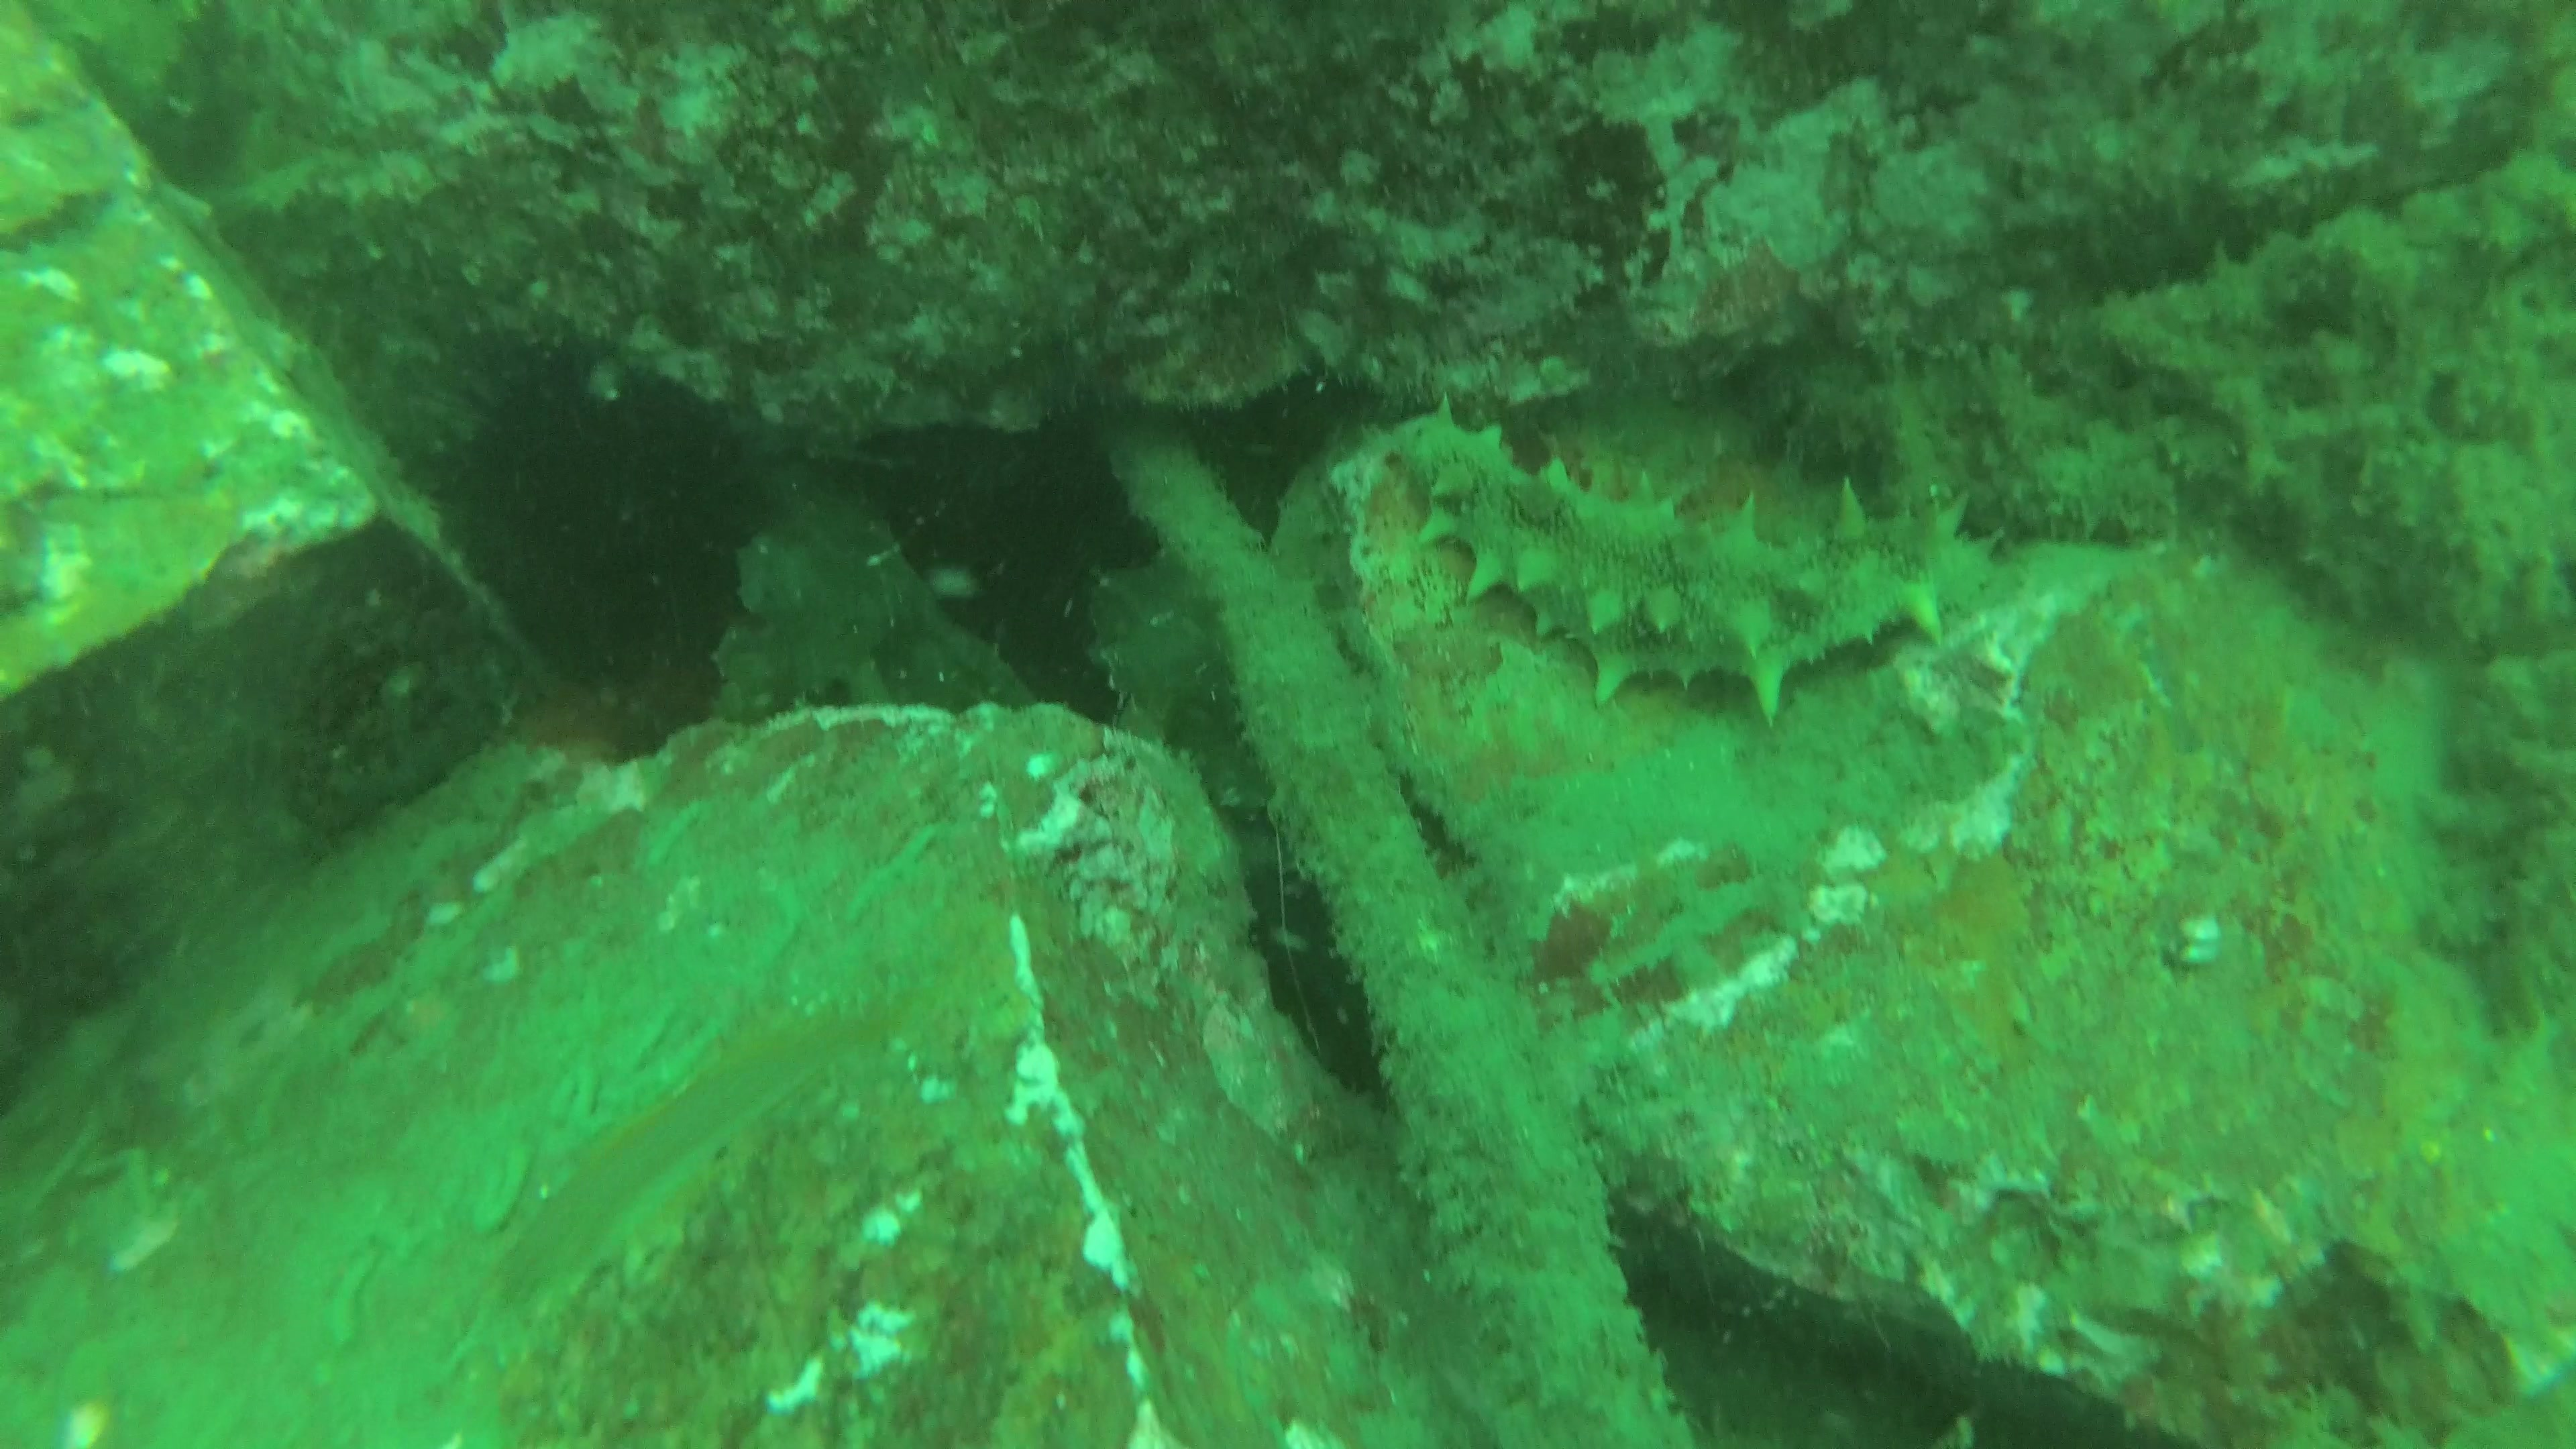echinus: (403, 327, 775, 702)
holothurian: (1389, 391, 2006, 725)
